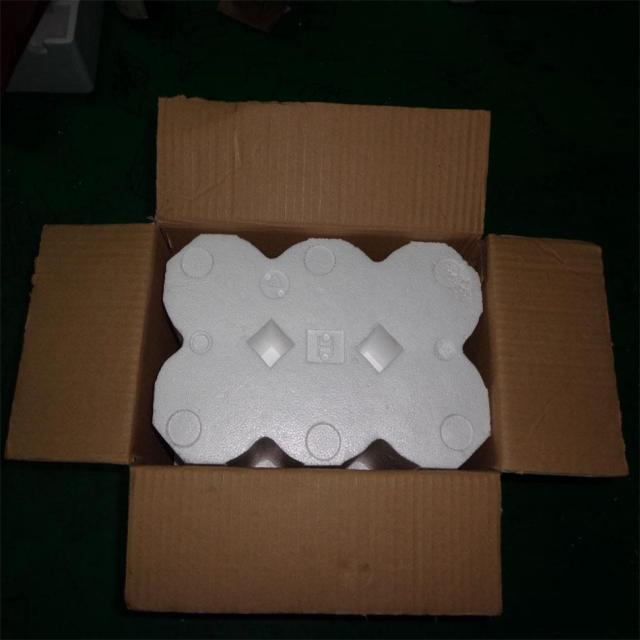styrofoam: (150, 230, 492, 470)
